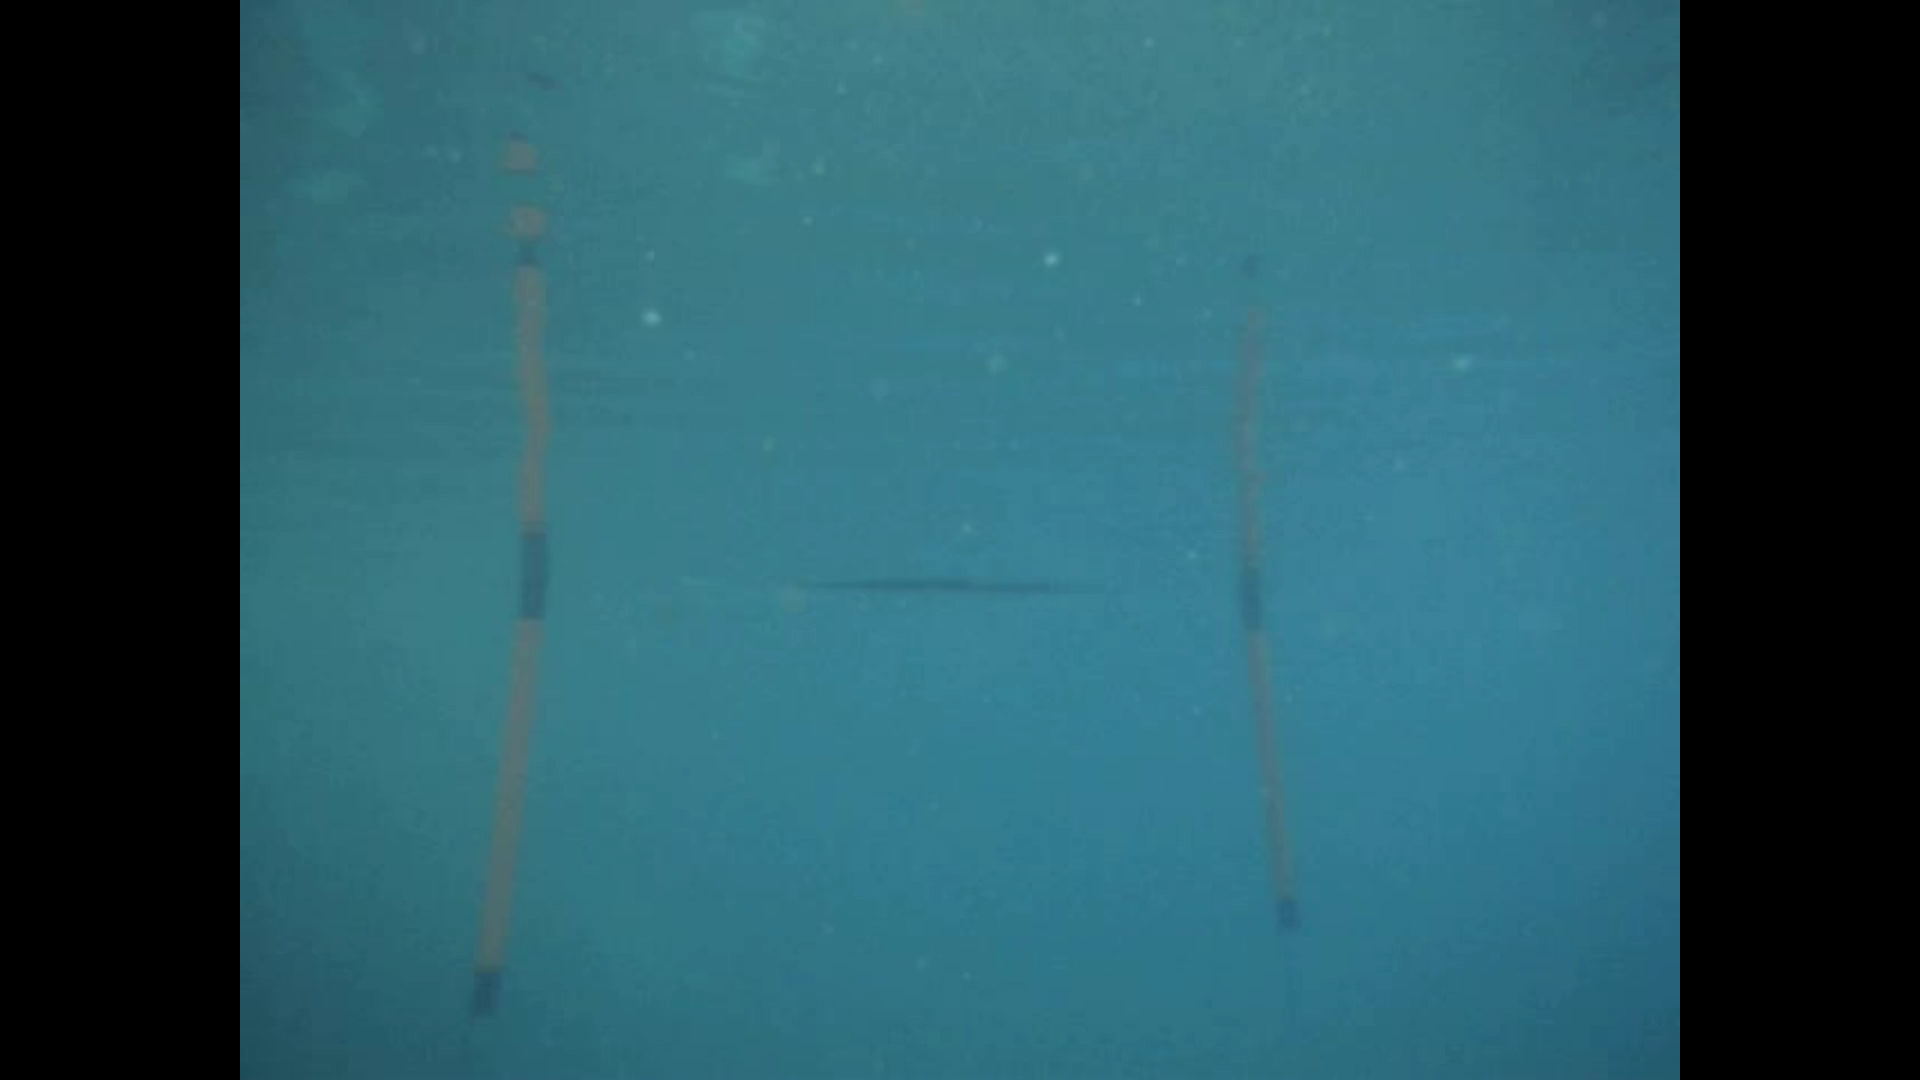gate: (462, 574, 1307, 1026)
